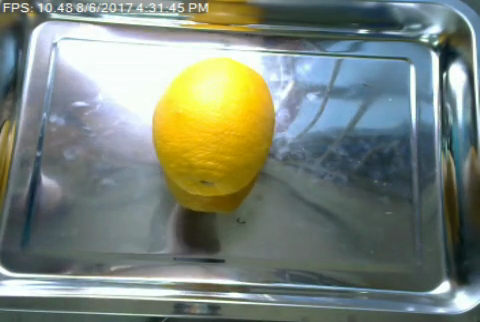Orange: (153, 60, 276, 196)
